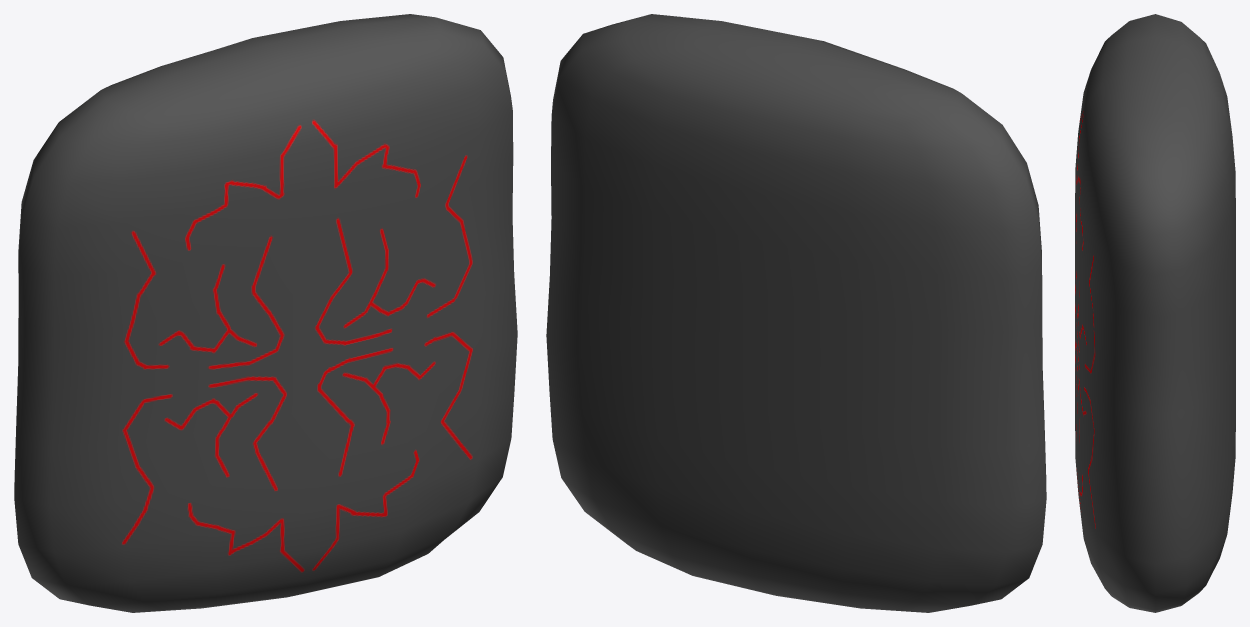
Rendered from Red_Target.fbx.
3 views of the same model, side by side, from view 1: azimuth 30°, elevation 25°; view 2: azimuth 150°, elevation 25°; view 3: azimuth 270°, elevation 25° (orthographic). The views are drawn at different scales.
Visible parts, largest first — view 1: Target_Red.LP; view 2: Target_Red.LP; view 3: Target_Red.LP.
Part boxes in pixels (x1=…): Target_Red.LP: x1=14, y1=14, x2=517, y2=612; Target_Red.LP: x1=546, y1=14, x2=1046, y2=612; Target_Red.LP: x1=1075, y1=14, x2=1235, y2=612.
Size of the model in its own units: 132 by 138 by 41.4.
